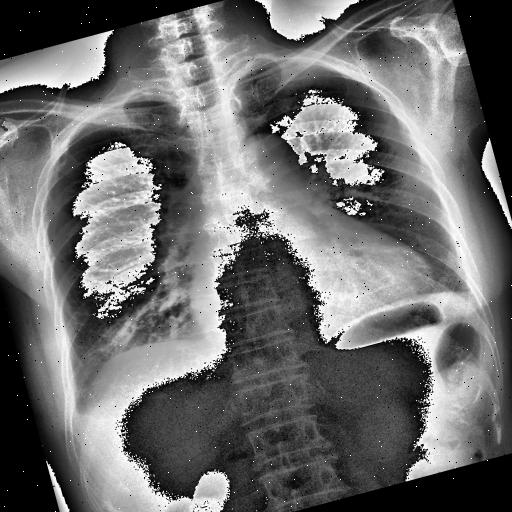0- Aortic enlargement: (223, 124, 304, 196), (237, 122, 300, 182)
10- Pleural effusion: (66, 396, 90, 424)
11- Pleural thickening: (66, 396, 90, 424)
3- Cardiomegaly: (188, 224, 448, 370), (181, 223, 445, 358), (187, 232, 441, 359)
